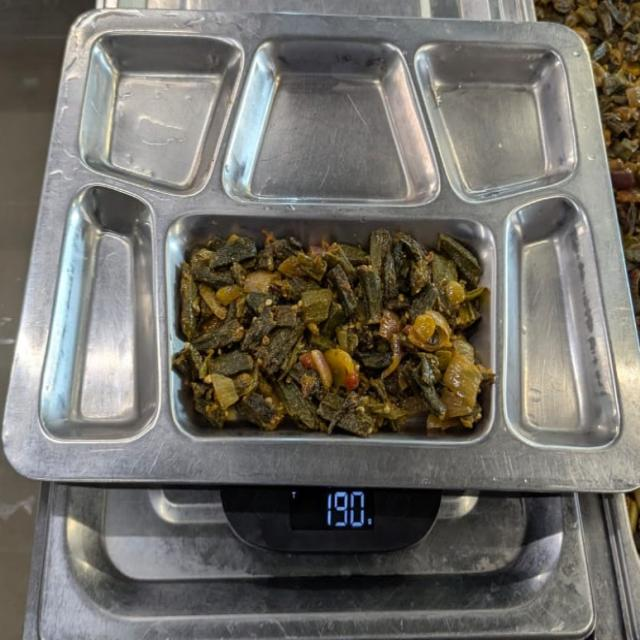Bhindi Masala: (190, 247, 470, 430)
